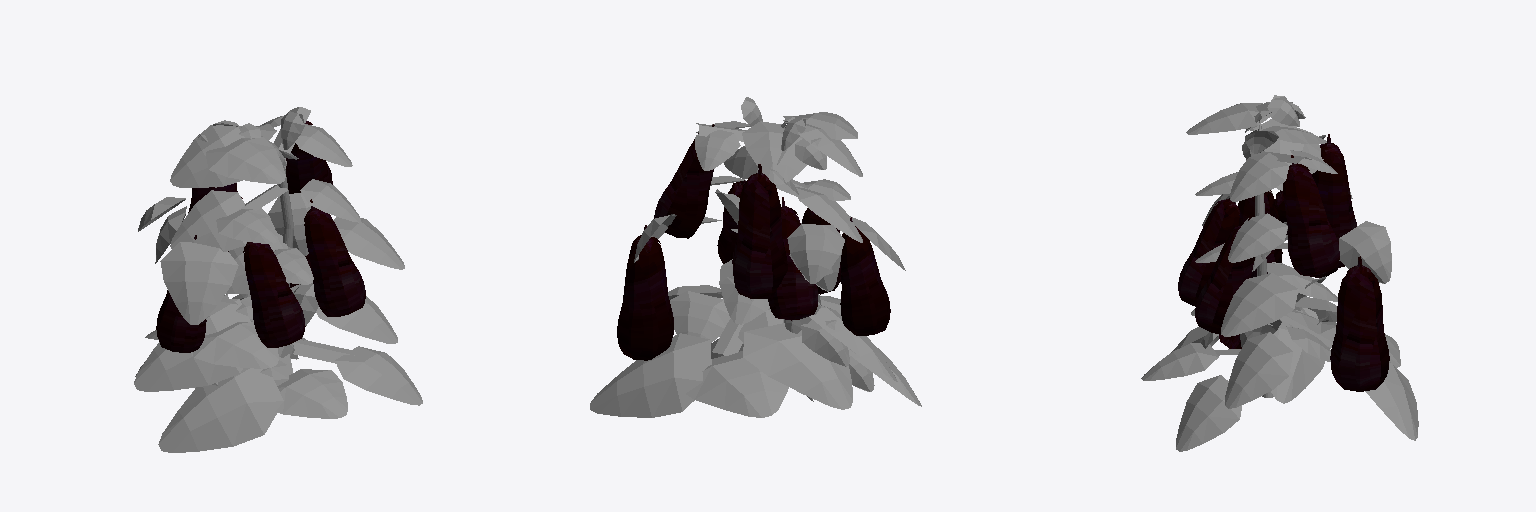
3 renders of one model, left to right at view 1: azimuth 30°, elevation 25°; view 2: azimuth 150°, elevation 25°; view 3: azimuth 270°, elevation 25°, orthographic.
Parts seen in each view (by area): view 1: Default_Layer; view 2: Default_Layer; view 3: Default_Layer.
Boxes of the visible parts, box(x1,y1,x2,y2) form: Default_Layer: box(134, 107, 422, 452); Default_Layer: box(590, 97, 921, 417); Default_Layer: box(1141, 95, 1418, 451).
Size of the model in its own units: 2241 by 2464 by 2159.
Materials: 3 (1 with a texture image).